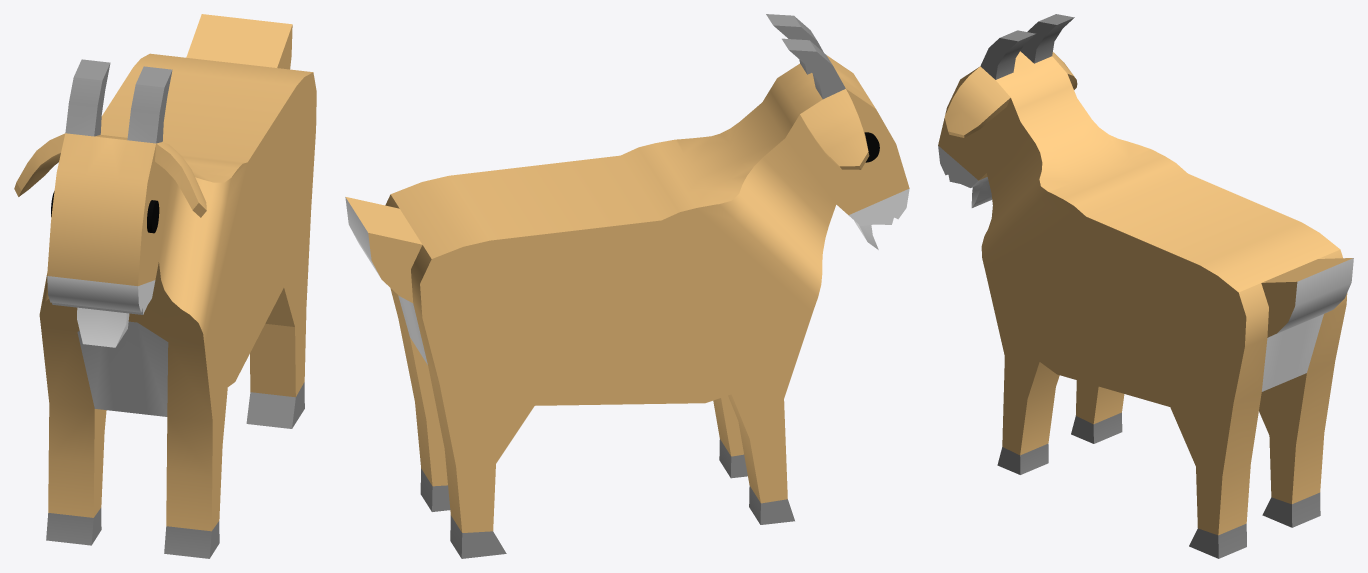
File: goat.fbx
3 renders of one model, left to right at view 1: azimuth 30°, elevation 25°; view 2: azimuth 150°, elevation 25°; view 3: azimuth 270°, elevation 25°, orthographic. The views are drawn at different scales.
Visible parts, largest first — view 1: Plane.125, Circle.1901; view 2: Plane.125; view 3: Plane.125.
Boxes of the visible parts, bbox=[...] form: Plane.125: bbox=[14, 14, 316, 558]; Circle.1901: bbox=[51, 191, 159, 233]; Plane.125: bbox=[345, 14, 909, 558]; Plane.125: bbox=[938, 14, 1353, 558].
Size of the model in its own units: 186 by 204 by 186.
1 material, 1 textured.
